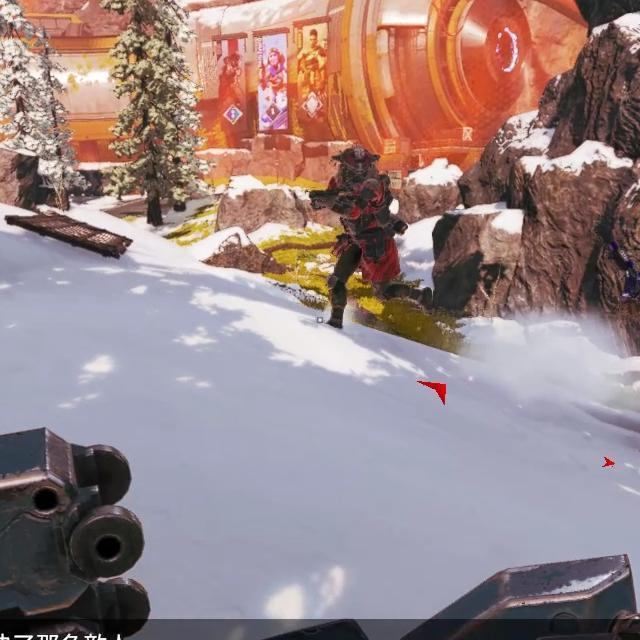avatar: (322, 145, 403, 333)
